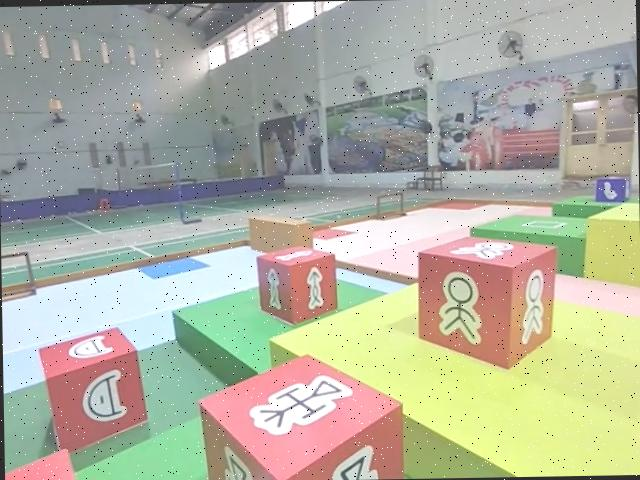R2 Real: (200, 342, 401, 480), (415, 232, 563, 370), (35, 321, 148, 458), (252, 242, 339, 326)
